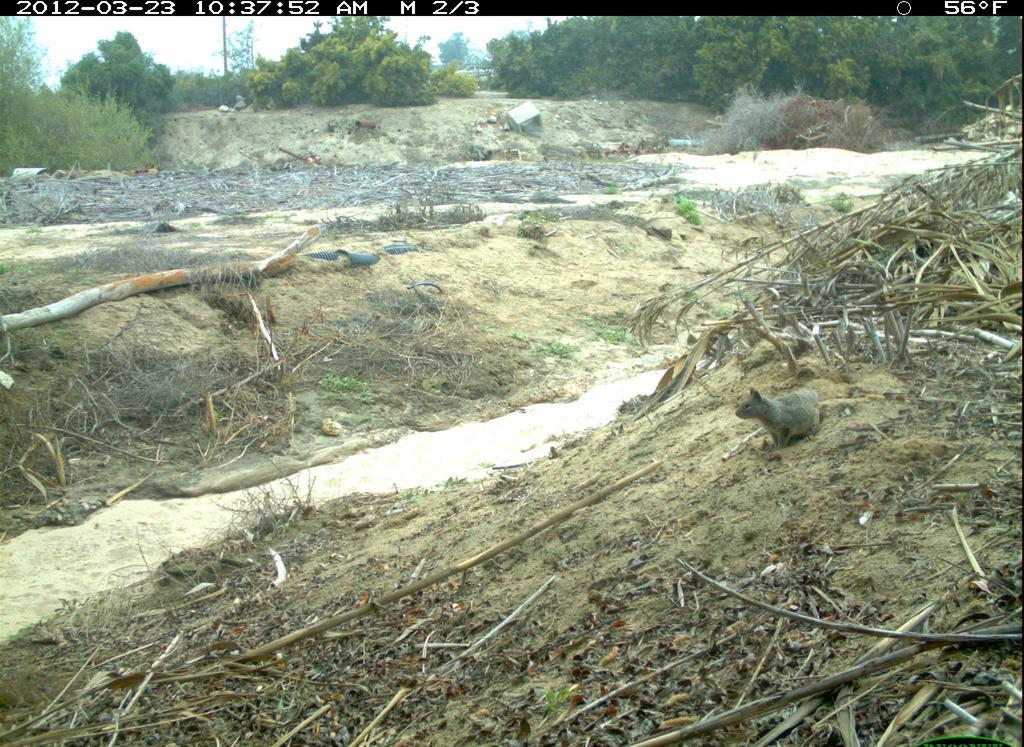squirrel: (733, 383, 826, 456)
